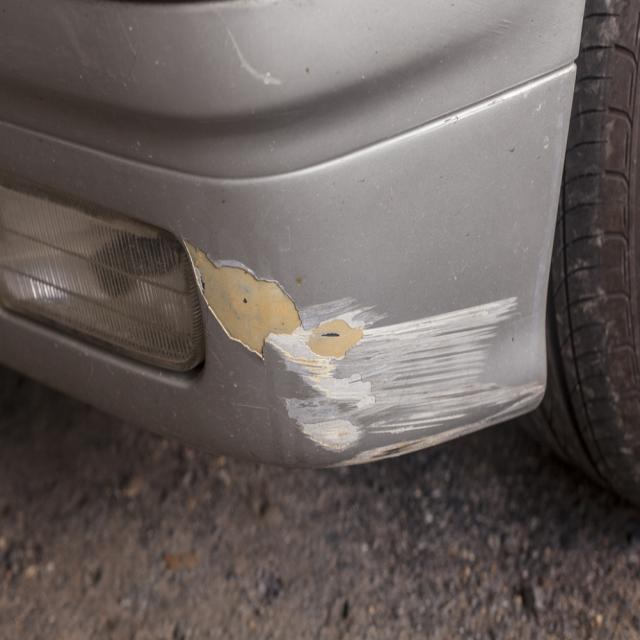scratch: (265, 292, 545, 465)
